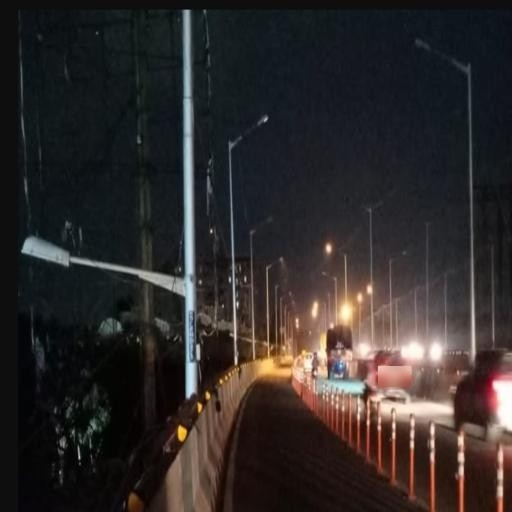acesa: (339, 302, 355, 321), (309, 298, 320, 316), (366, 283, 377, 296), (356, 290, 365, 303), (324, 242, 333, 252)
apagada: (14, 231, 74, 275), (413, 40, 433, 55), (256, 111, 277, 125), (264, 214, 272, 223)
